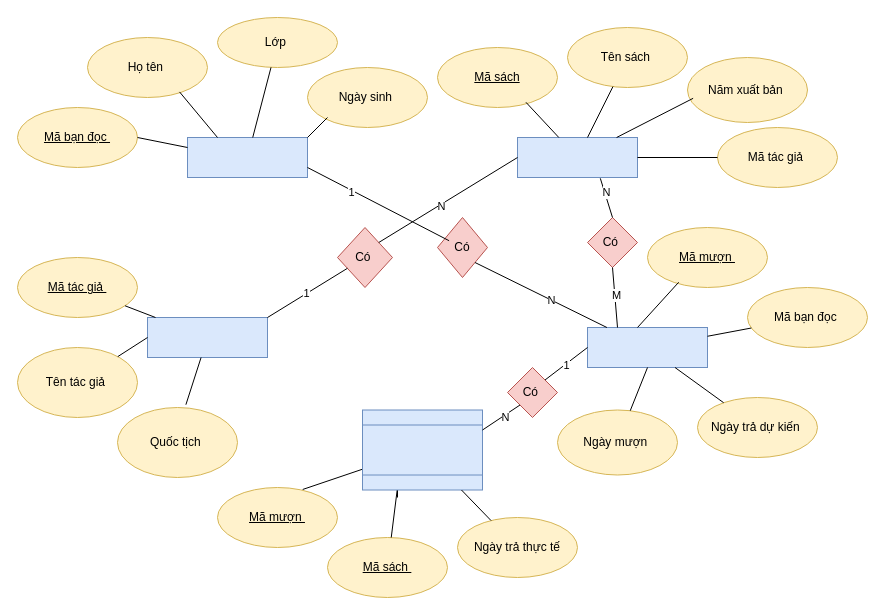
Some shapes in this 885 by 615 pixel diagram are drawn without their labels. Each missing label, with the centre of its shape:
Author: [207,337]
Book: [577,157]
Borrow: [647,347]
BorrowDetail: [422,449]
Reader: [247,157]
